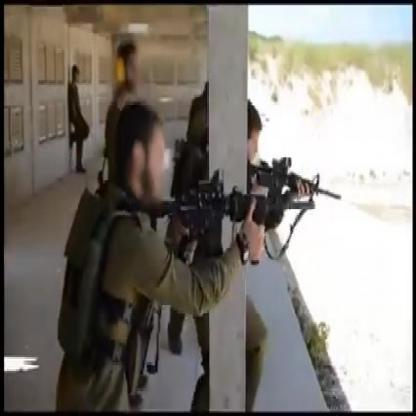Gun: (159, 168, 316, 251)
